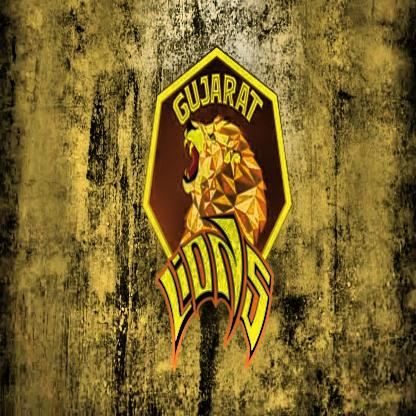Gujarat lions: (145, 45, 293, 370)
